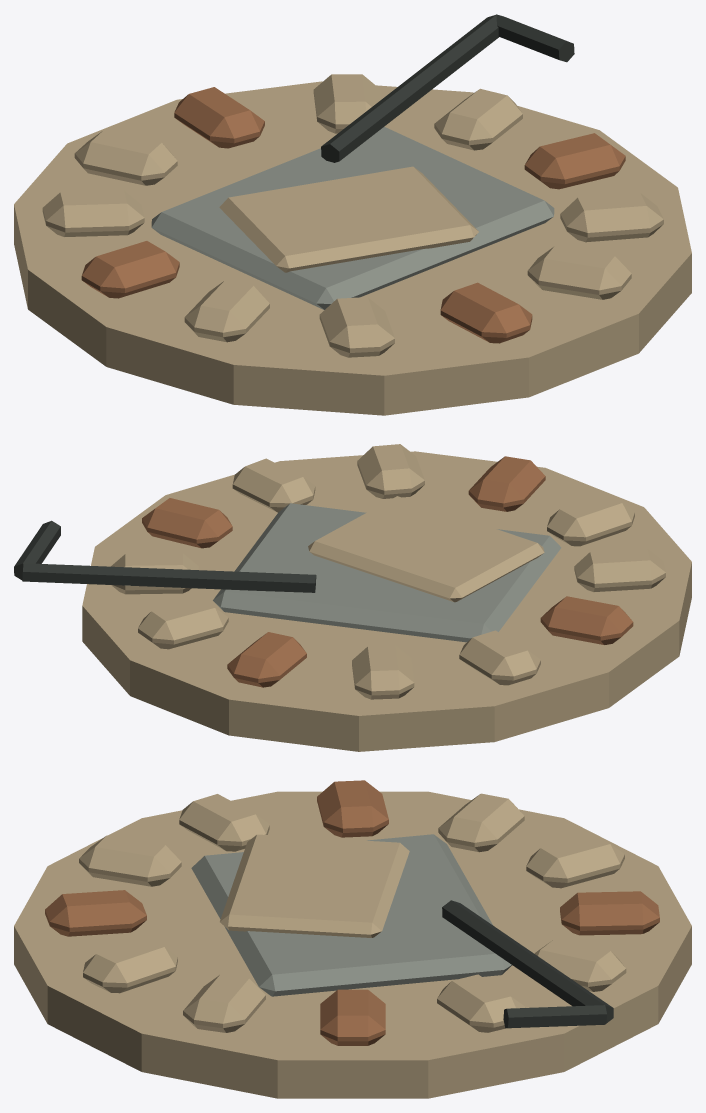
File: ied.glb
3 views of the same model, one above another, from view 1: azimuth 30°, elevation 25°; view 2: azimuth 150°, elevation 25°; view 3: azimuth 270°, elevation 25° (orthographic). The views are drawn at different scales.
Visible parts, largest first — view 1: ied; view 2: ied; view 3: ied.
Part boxes in pixels (<box>): ied: <box>14,14,691,415</box>; ied: <box>14,444,691,751</box>; ied: <box>14,780,691,1098</box>.
Size of the model in its own units: 0.6658 by 0.105 by 0.6908.
